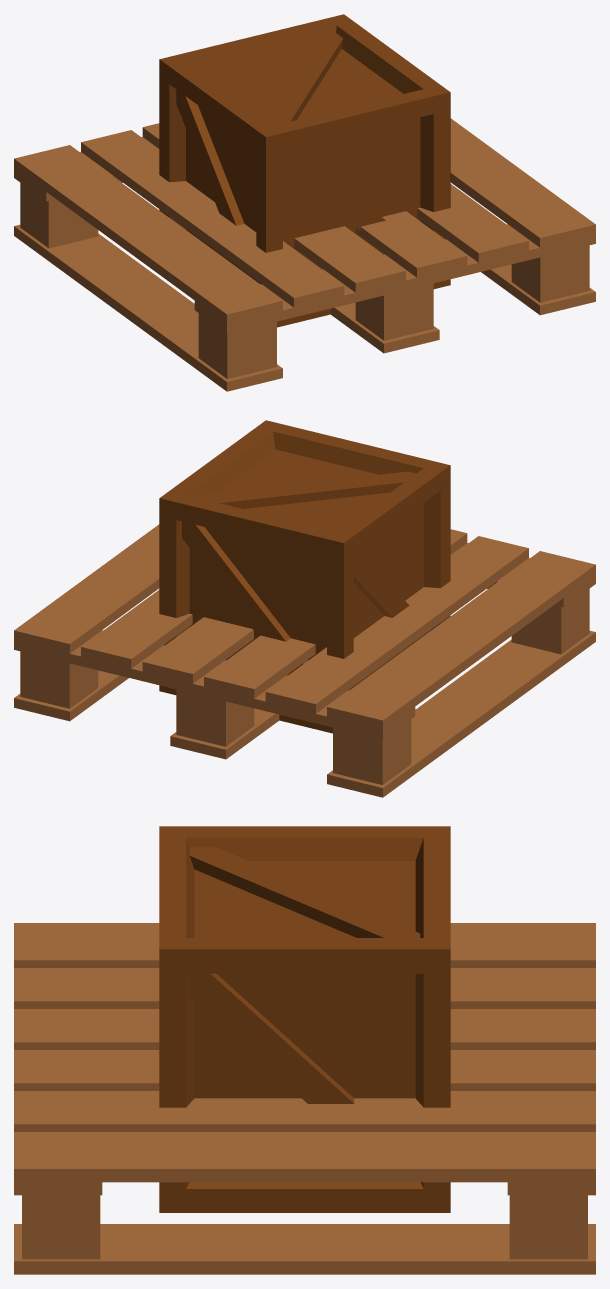
The model's file is PalleteBox.fbx.
3 views of the same model, one above another, from view 1: azimuth 30°, elevation 25°; view 2: azimuth 150°, elevation 25°; view 3: azimuth 270°, elevation 25° (orthographic). The views are drawn at different scales.
Visible parts, largest first — view 1: Cube.002, Cube.006; view 2: Cube.002, Cube.006; view 3: Cube.002, Cube.006.
Part boxes in pixels (x1=…): Cube.002: x1=14, y1=118, x2=595, y2=391; Cube.006: x1=159, y1=14, x2=450, y2=327; Cube.002: x1=14, y1=524, x2=595, y2=797; Cube.006: x1=159, y1=420, x2=450, y2=733; Cube.002: x1=14, y1=923, x2=595, y2=1274; Cube.006: x1=159, y1=826, x2=450, y2=1212.
Size of the model in its own units: 200 by 100 by 200.
1 material, 1 textured.
